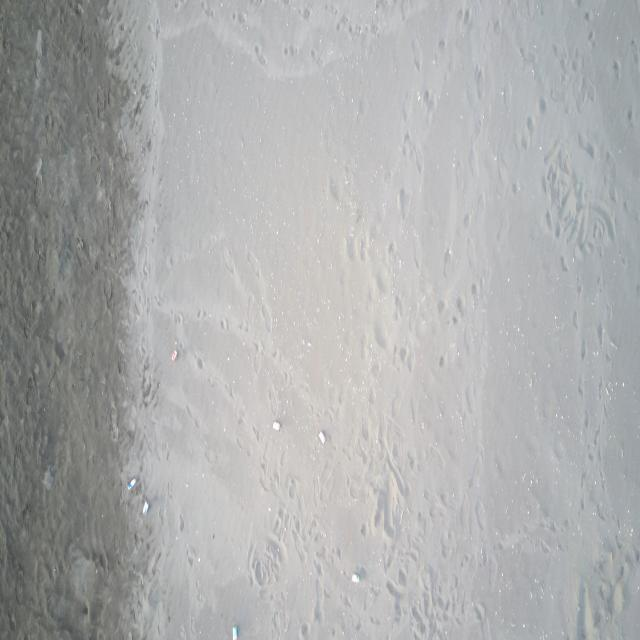Garbage: (44, 464, 54, 488), (128, 476, 136, 489), (141, 500, 148, 513), (232, 624, 238, 639), (352, 572, 360, 582), (318, 431, 324, 444), (169, 350, 176, 360), (272, 420, 279, 430)
